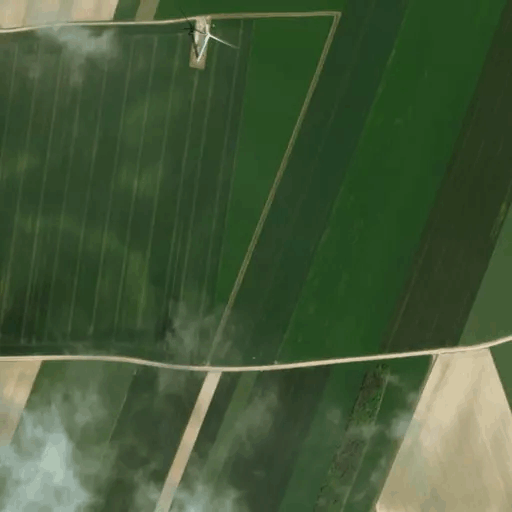wt: (177, 12, 242, 73)
